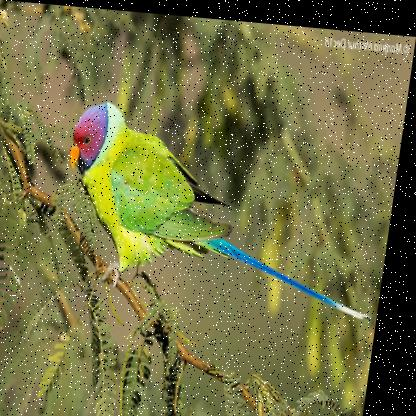Burung: (59, 96, 401, 313)
